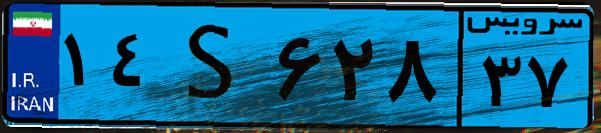1: (57, 26, 110, 100)
2: (330, 28, 385, 110)
3: (475, 38, 525, 113)
4: (110, 28, 158, 98)
6: (270, 28, 330, 110)
7: (525, 38, 570, 115)
8: (385, 28, 445, 110)
S: (158, 12, 270, 120)
